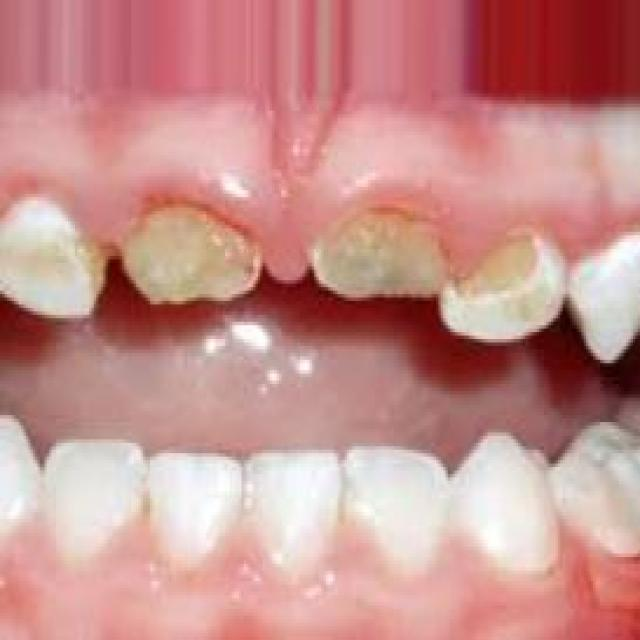caries: (120, 198, 270, 313), (314, 193, 452, 314), (443, 218, 567, 348)
